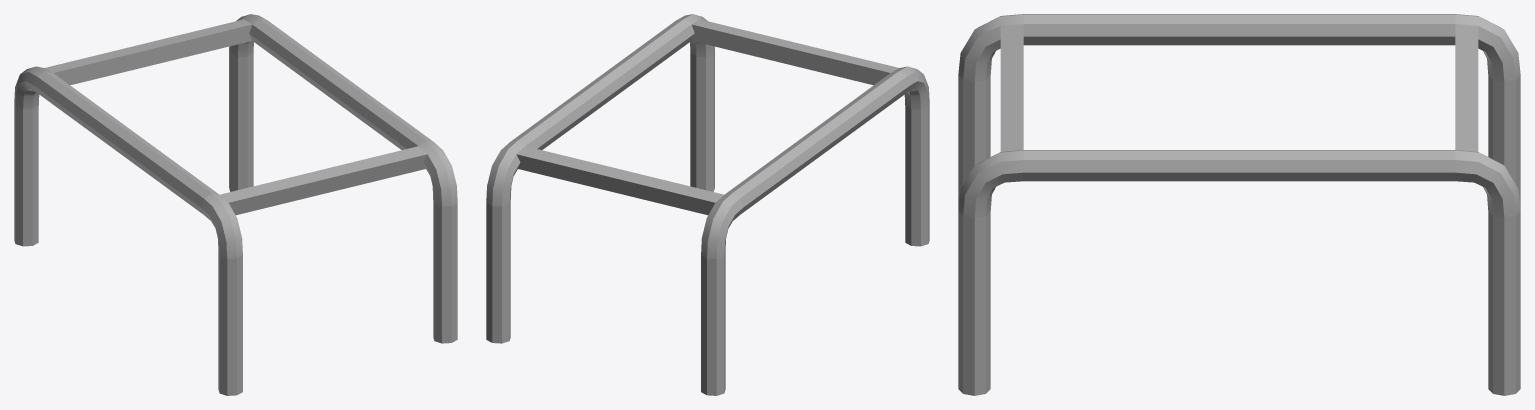
The model's file is BasketHolder.fbx.
The picture shows the model from 3 angles, left to right: view 1: azimuth 30°, elevation 25°; view 2: azimuth 150°, elevation 25°; view 3: azimuth 270°, elevation 25°; orthographic projection. The views are drawn at different scales.
Visible parts, largest first — view 1: BasketHolder; view 2: BasketHolder; view 3: BasketHolder.
Boxes of the visible parts, x1,y1,x2,y2 form: BasketHolder: [14, 14, 457, 395]; BasketHolder: [486, 14, 929, 395]; BasketHolder: [958, 14, 1520, 395].
Bounding box in the file's own units: 54.92 × 40.69 × 87.
